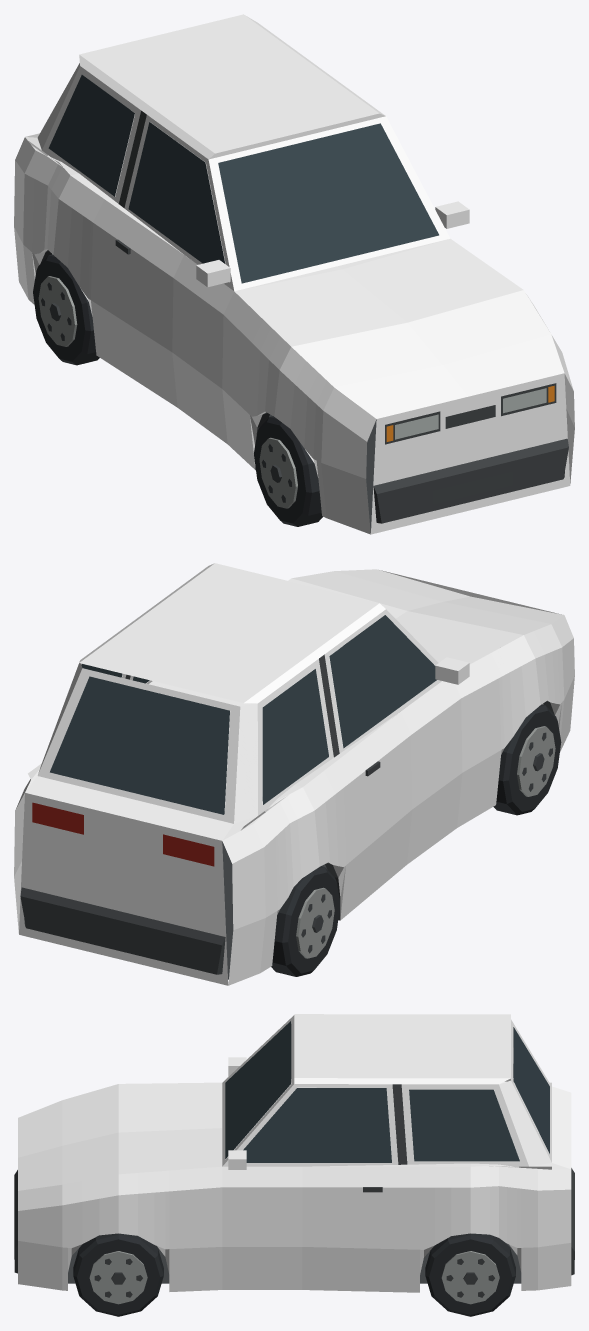
File: hozuki_tsumuji.glb
The picture shows the model from 3 angles, top to bottom: view 1: azimuth 30°, elevation 25°; view 2: azimuth 150°, elevation 25°; view 3: azimuth 270°, elevation 25°; orthographic projection. The views are drawn at different scales.
Visible parts, largest first — view 1: hozuki_tsumuji; view 2: hozuki_tsumuji; view 3: hozuki_tsumuji.
Part boxes in pixels (bbox=[...]): hozuki_tsumuji: bbox=[14, 14, 574, 534]; hozuki_tsumuji: bbox=[14, 563, 574, 985]; hozuki_tsumuji: bbox=[14, 1014, 574, 1316].
Bounding box in the file's own units: 1.62 × 1.62 × 3.71.
8 materials, 1 textured.
